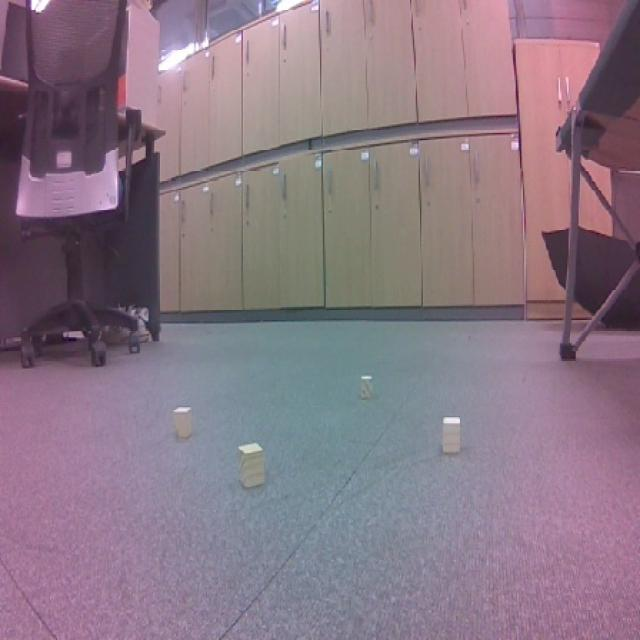obstacle: (234, 438, 268, 494), (432, 411, 468, 460), (169, 401, 201, 440)
